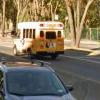Bus: (10, 15, 66, 60)
